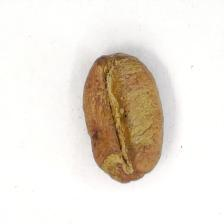NG: (85, 52, 160, 180)
